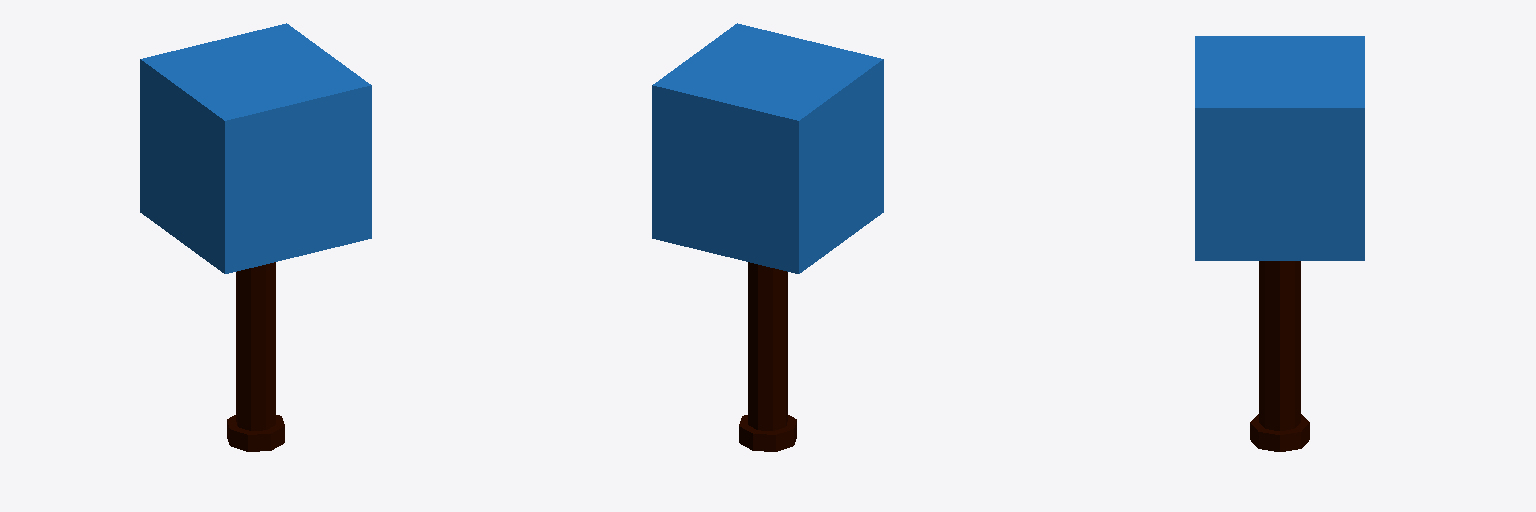
Rendered from weaponcase.obj.
3 views of the same model, side by side, from view 1: azimuth 30°, elevation 25°; view 2: azimuth 150°, elevation 25°; view 3: azimuth 270°, elevation 25° (orthographic).
Visible parts, largest first — view 1: WeaponCase_Cube; view 2: WeaponCase_Cube; view 3: WeaponCase_Cube.
Boxes of the visible parts, x1=… form: WeaponCase_Cube: x1=140, y1=23, x2=371, y2=451; WeaponCase_Cube: x1=652, y1=23, x2=883, y2=451; WeaponCase_Cube: x1=1195, y1=36, x2=1364, y2=451.
Bounding box in the file's own units: 2 × 4.79 × 2.